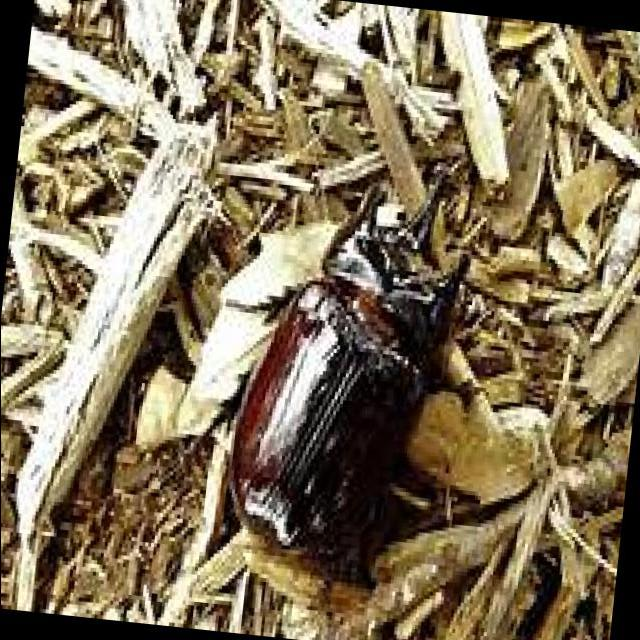Rhino-beetle: (212, 200, 466, 585)
